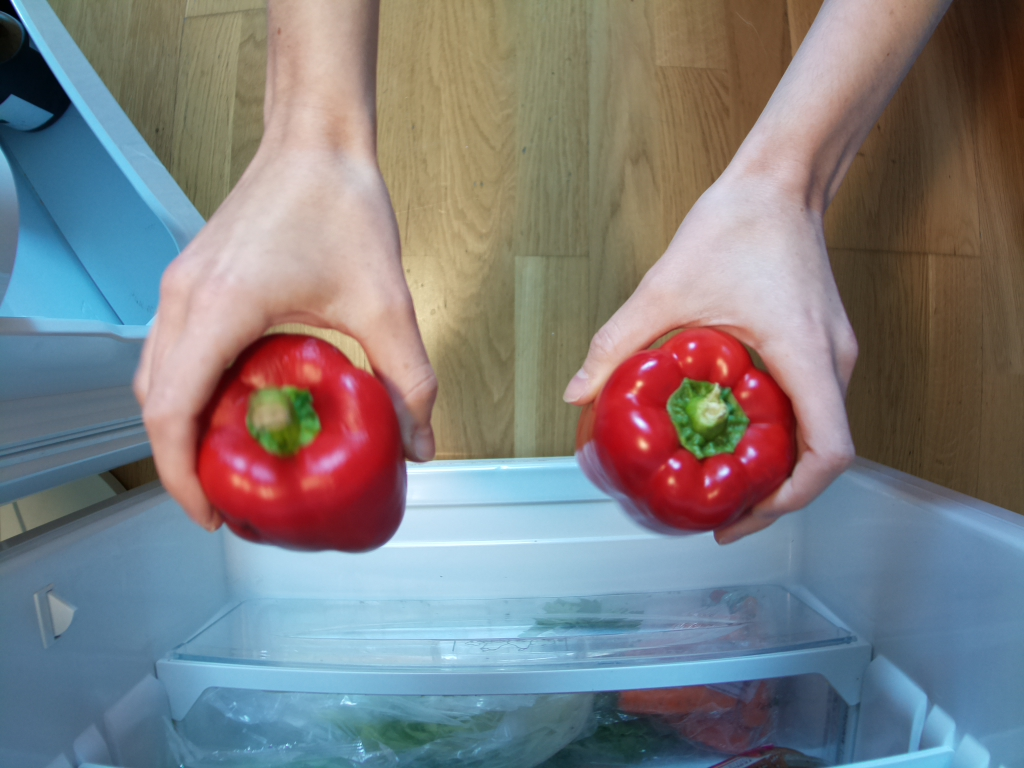pepper: (575, 327, 796, 541)
pepper-bad: (196, 329, 409, 554)
